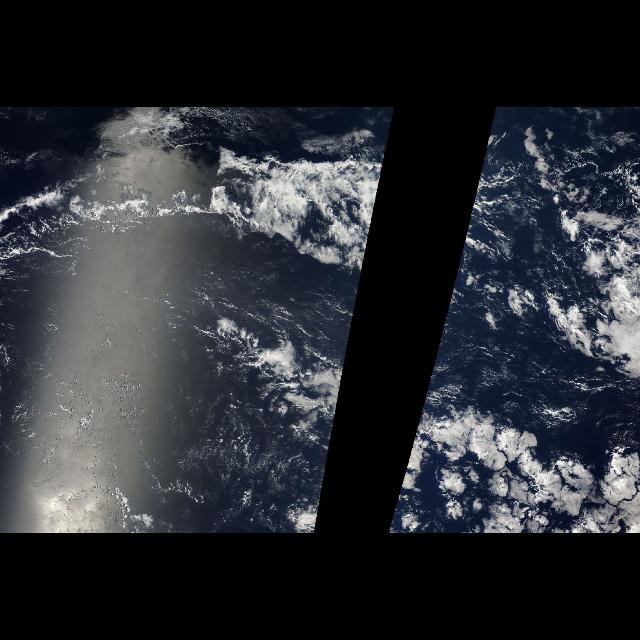Fish: (0, 150, 388, 274), (402, 371, 640, 529)
Flower: (394, 403, 640, 532)
